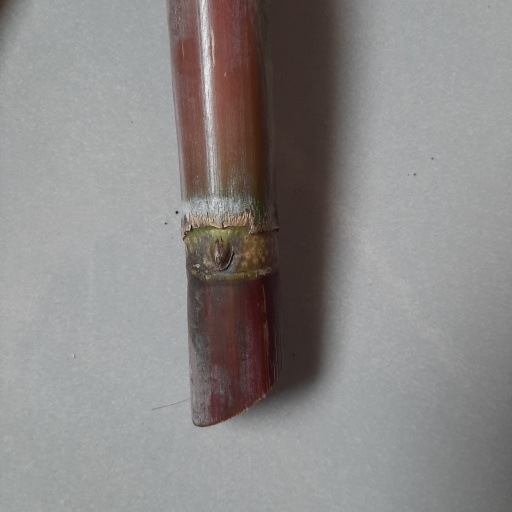Bud: (210, 238, 233, 272)
